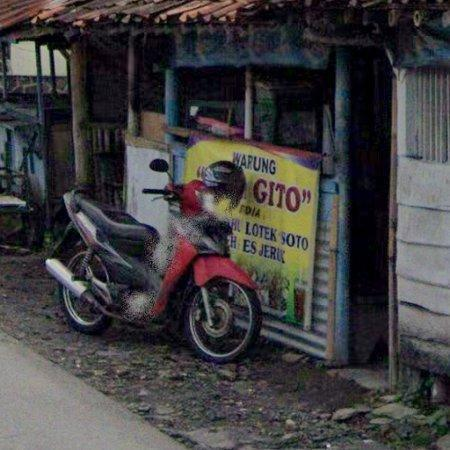motorcycles: (45, 159, 263, 364)
